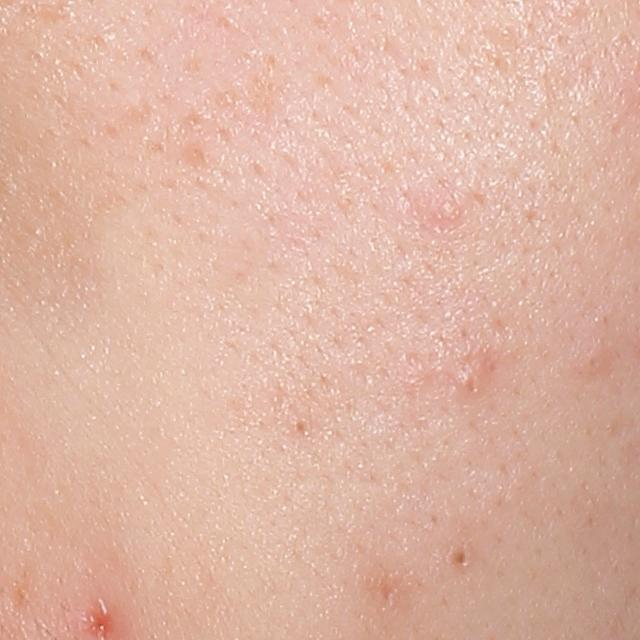comedo: (572, 346, 610, 376), (443, 542, 471, 571), (289, 417, 308, 435)
